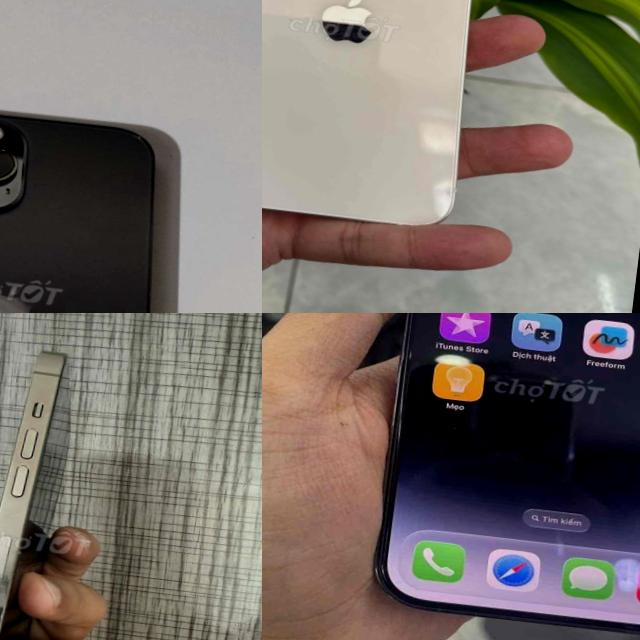gen_12_13: (262, 0, 497, 235), (0, 92, 197, 313)
gen_14: (339, 313, 640, 640), (0, 327, 73, 640)
